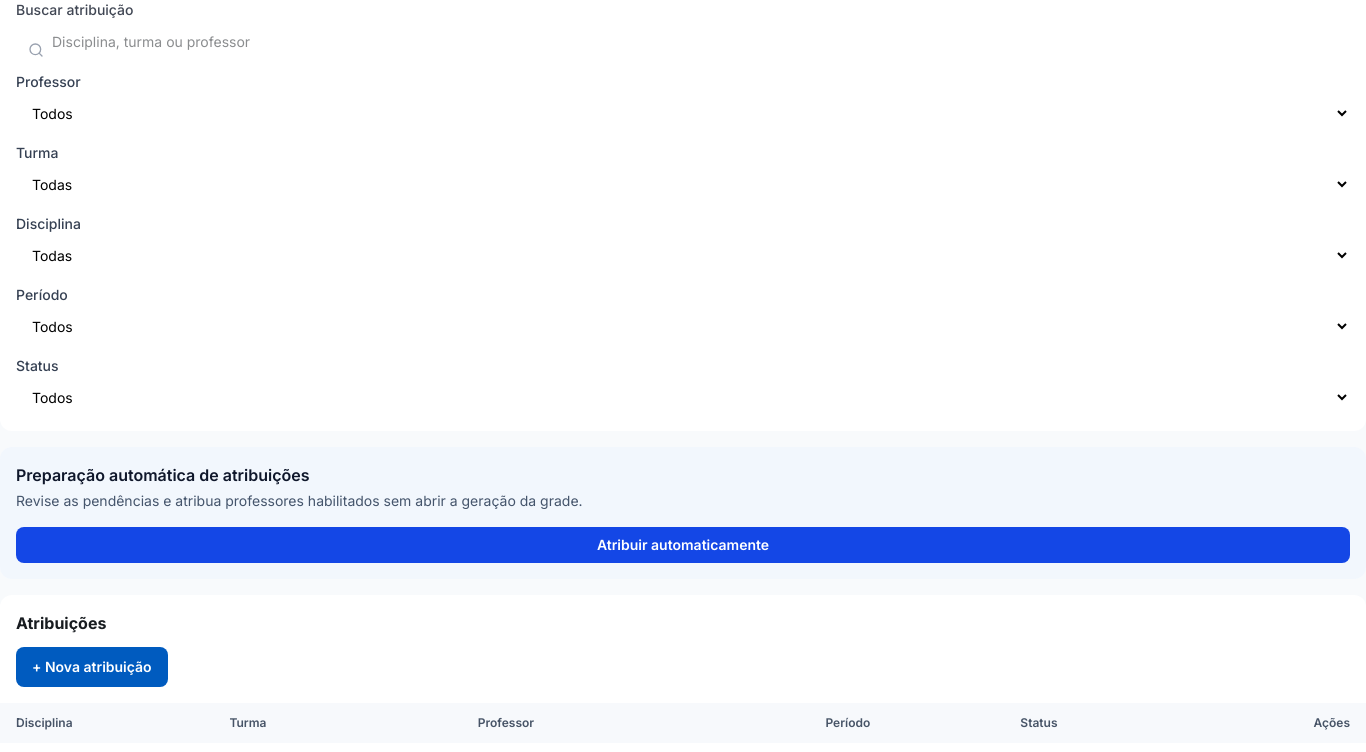
Test: AssignmentsTab › busca atribuições por disciplina, turma ou professor
This screenshot has width=1366, height=752.
Type "Professor 11" into the search field labelled "Buscar atribuição" at (683, 42), box [16, 24, 1350, 60]
(page scrolled)
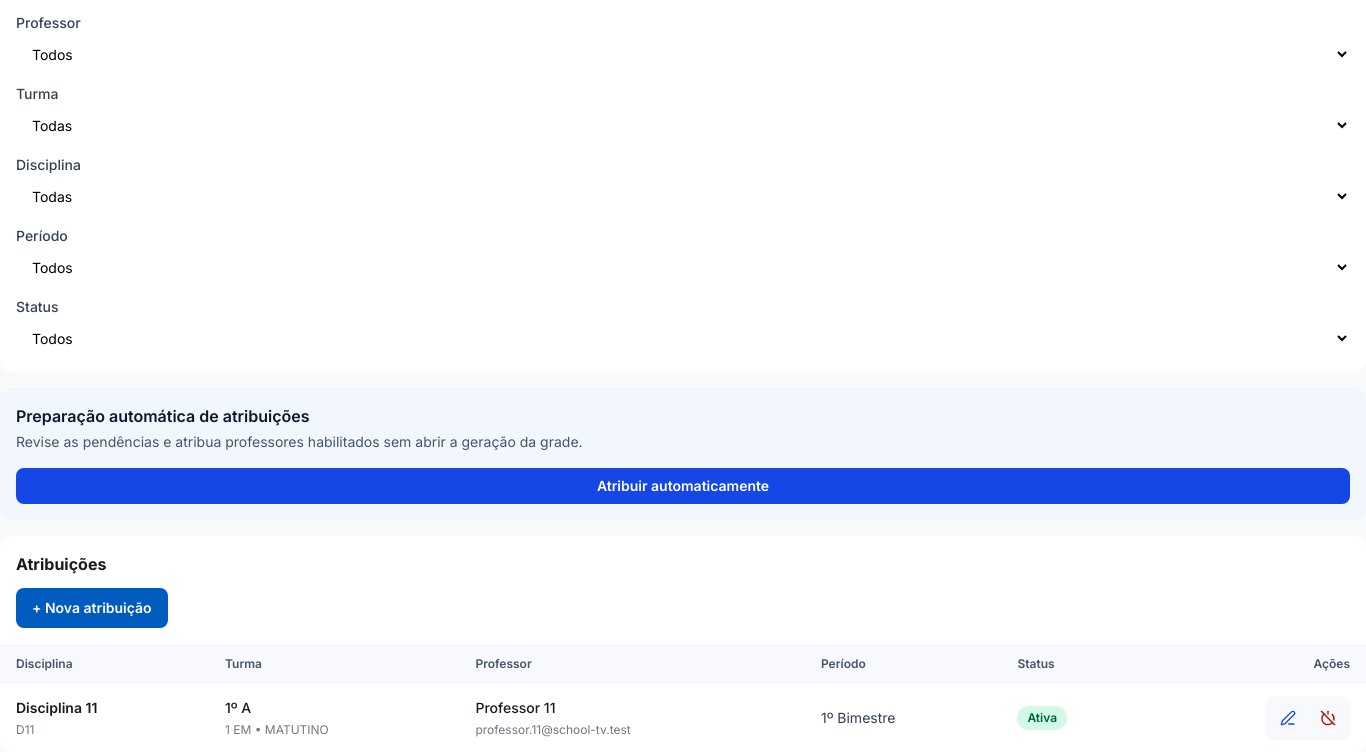
Expected: the text "Disciplina 11" is shown, [16, 699, 97, 716]
